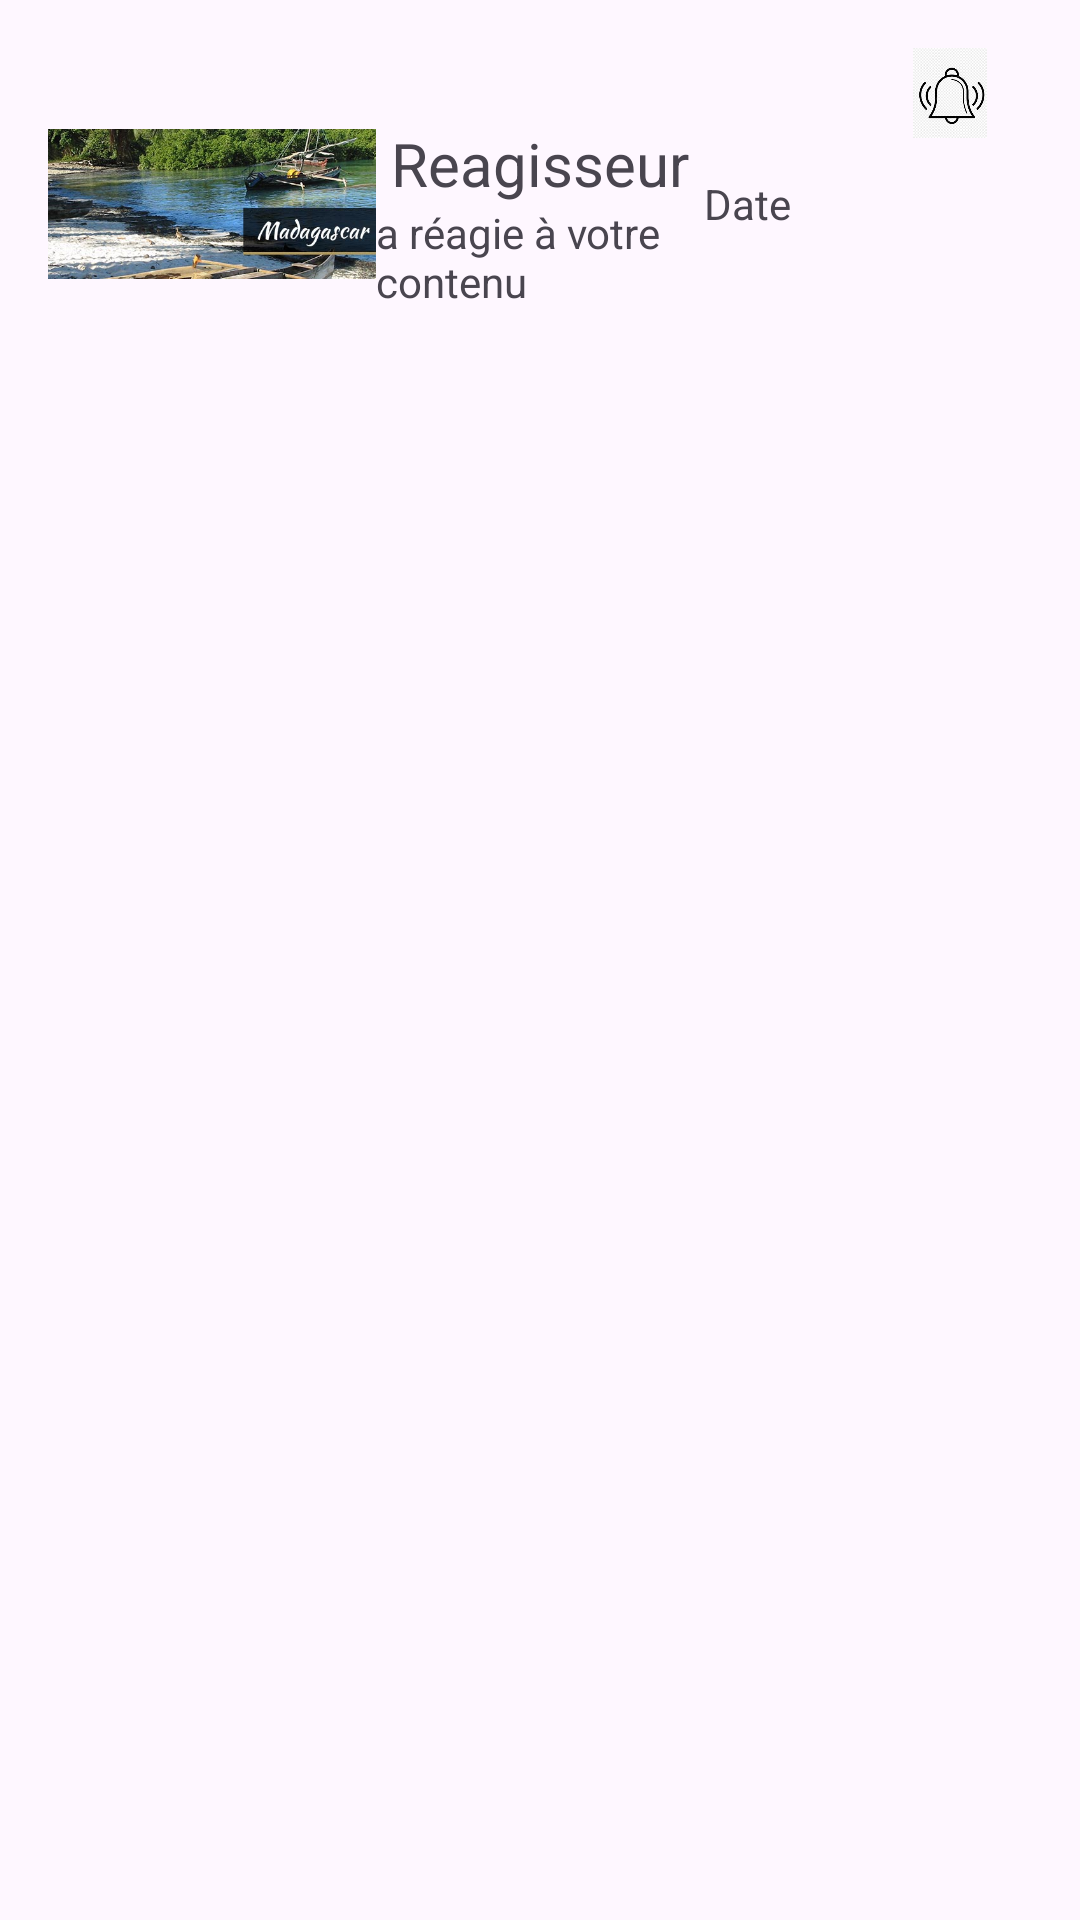

Locate icon controls on the screen. Image size 1080 × 1920, boxes as (x1, y1, x2, y2).
cloche: (919, 67, 985, 124)
